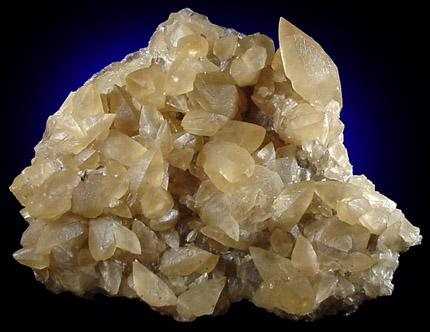calcite: (10, 9, 422, 322)
